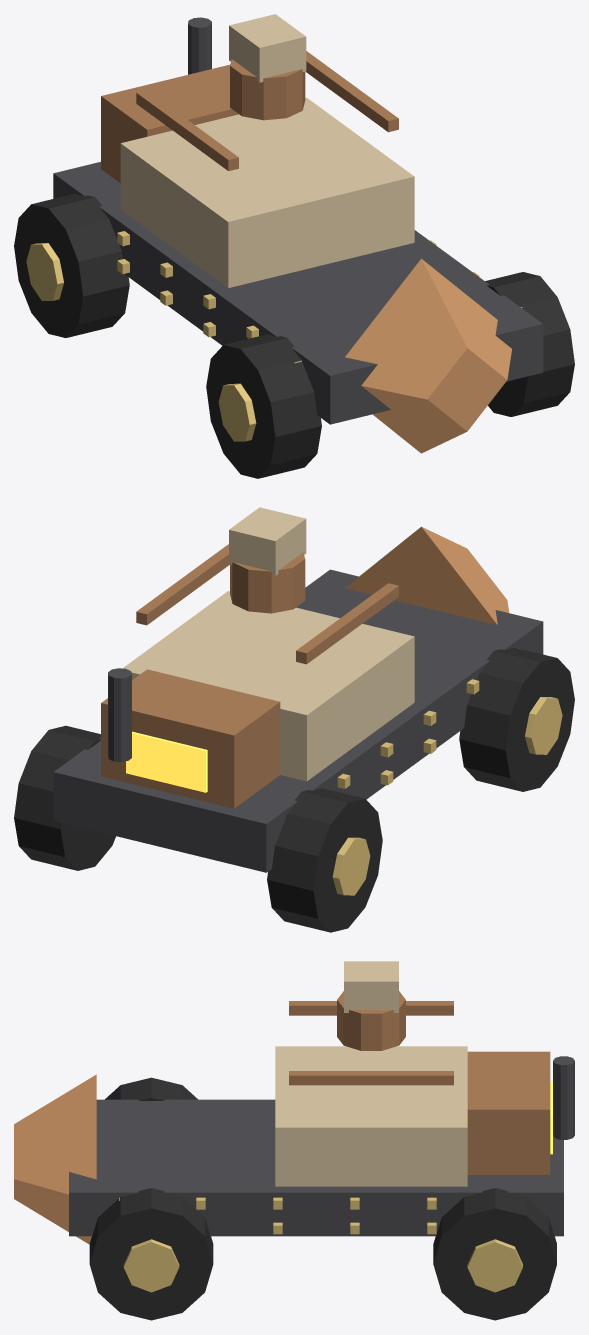
The model's file is raider_buggy.glb.
3 views of the same model, one above another, from view 1: azimuth 30°, elevation 25°; view 2: azimuth 150°, elevation 25°; view 3: azimuth 270°, elevation 25° (orthographic). The views are drawn at different scales.
Visible parts, largest first — view 1: chassis, wheel_fl, wheel_rl, turret_base, wheel_fr; view 2: chassis, wheel_rl, wheel_fl, wheel_rr, turret_base; view 3: chassis, wheel_fr, wheel_rr, turret_base, wheel_fl.
Boxes of the visible parts, x1,y1,x2,y2 form: chassis: (53, 17, 543, 453); wheel_fl: (206, 334, 321, 478); wheel_rl: (14, 193, 129, 337); turret_base: (229, 14, 306, 120); wheel_fr: (485, 272, 574, 416); chassis: (53, 526, 543, 872); wheel_rl: (267, 788, 382, 932); wheel_fl: (459, 647, 574, 791); wheel_rr: (14, 725, 115, 870); turret_base: (229, 507, 306, 613); chassis: (14, 1001, 574, 1244); wheel_fr: (89, 1188, 213, 1320); wheel_rr: (433, 1188, 556, 1320); turret_base: (337, 961, 405, 1050); wheel_fl: (105, 1077, 197, 1100).
Size of the model in its own units: 2.35 by 2.28 by 4.08.
